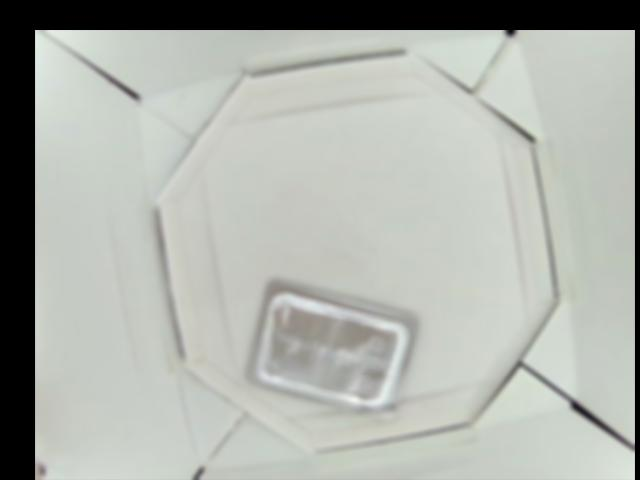Medicine: (248, 277, 421, 419)
